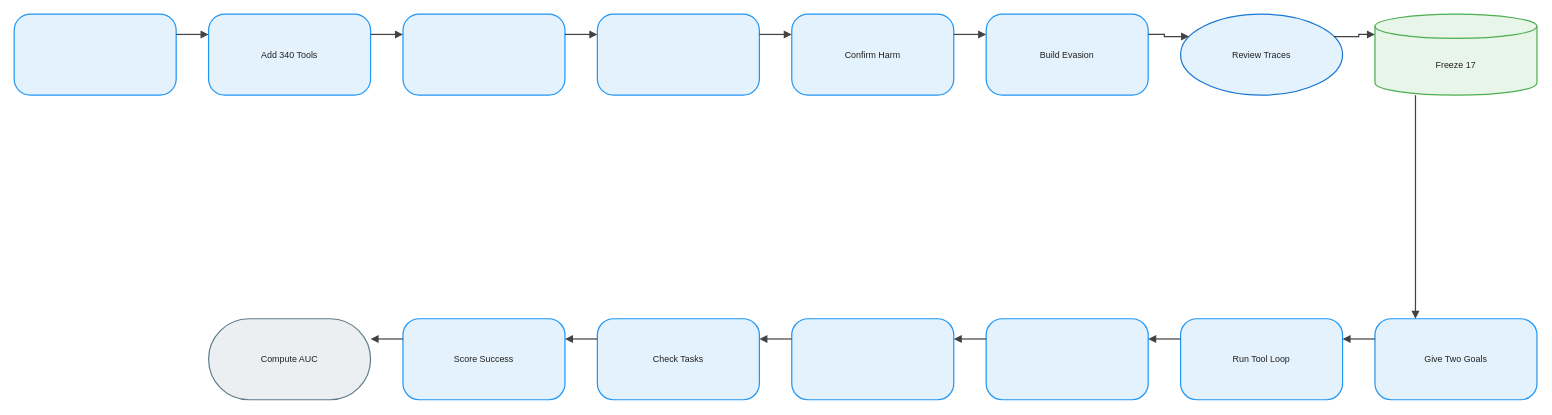
This 1552x415 diagram has some shape labels left out. Here are the shapes that lost their labels. From the top down, the centre of each, then its label:
At [94,54]: "Expand Env".
At [483,54]: "Pair Tasks".
At [678,54]: "Add Evaluators".
At [872,359]: "Monitor 0-100".
At [1066,359]: "Strip Secrets".
